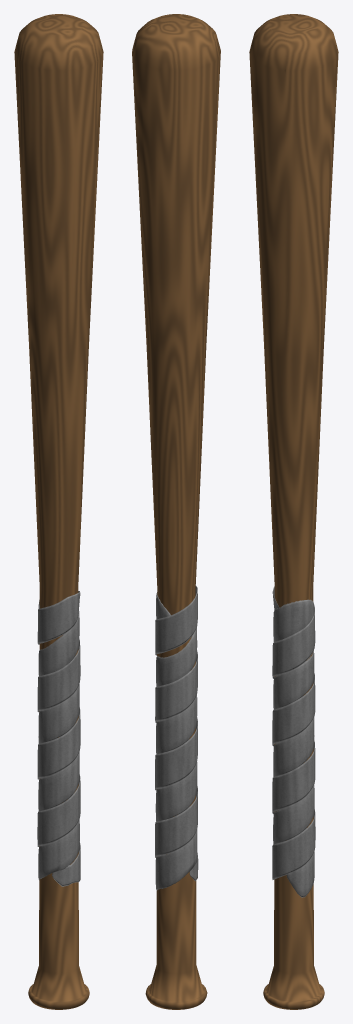
Rendered from bate.fbx.
The picture shows the model from 3 angles, left to right: view 1: azimuth 90°, elevation 25°; view 2: azimuth 150°, elevation 25°; view 3: azimuth 270°, elevation 25°; orthographic projection.
Parts seen in each view (by area): view 1: bate; view 2: bate; view 3: bate.
Part boxes in pixels (left/top/right/bottom): bate: left=14, top=14, right=103, bottom=1009; bate: left=132, top=14, right=220, bottom=1009; bate: left=249, top=14, right=338, bottom=1009.
Bounding box in the file's own units: 0.654 × 7.88 × 0.654.
